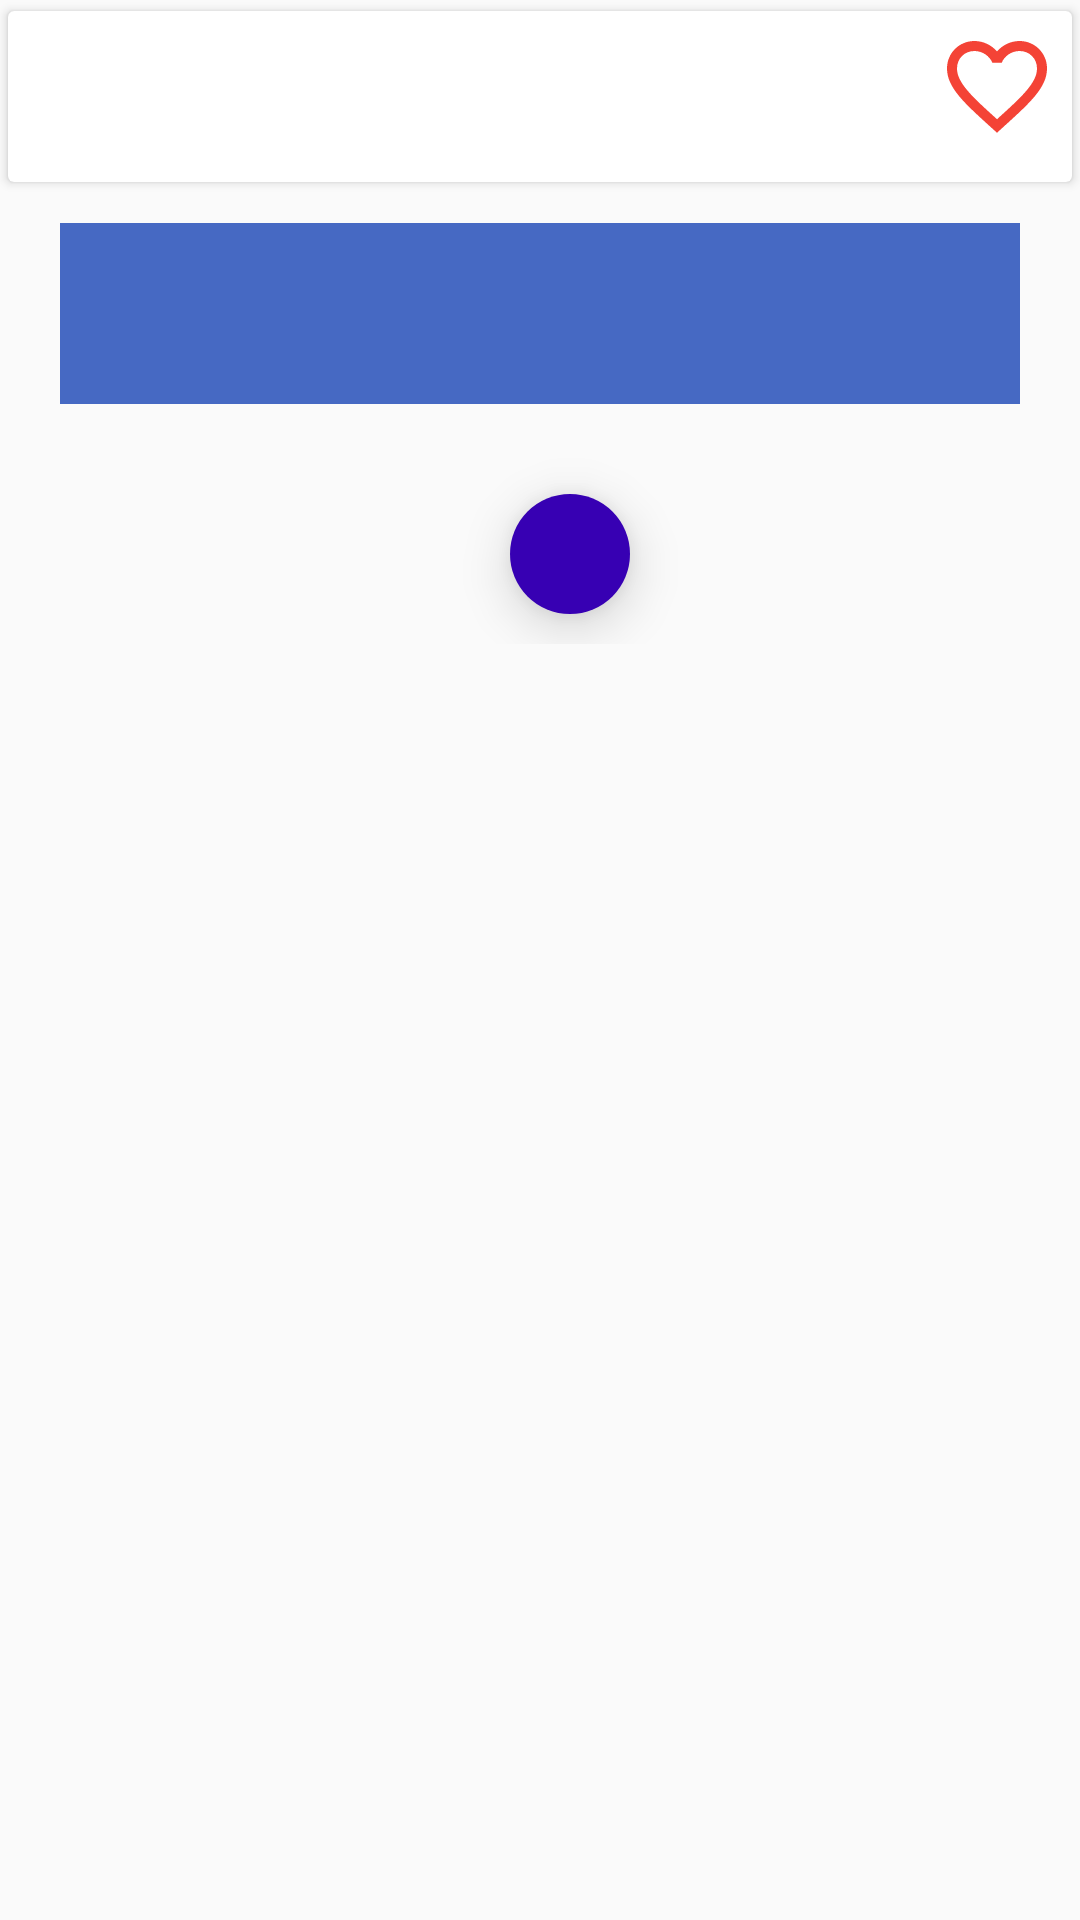

Icons on this 1080*1920 Android screen, each with the point to tap as point (x, y):
content favourite: point (997, 87)
